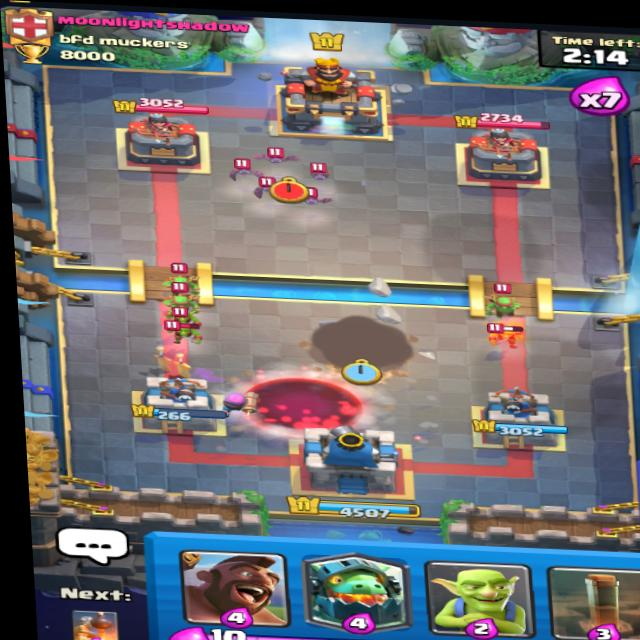bats: (303, 160, 337, 190), (216, 161, 263, 181), (294, 185, 335, 205), (259, 150, 294, 171)
goblin: (488, 315, 530, 353), (163, 318, 201, 344), (167, 302, 203, 329)
spear-goblin: (481, 283, 525, 319), (166, 266, 203, 297), (162, 290, 199, 318)
void: (240, 377, 370, 438)
